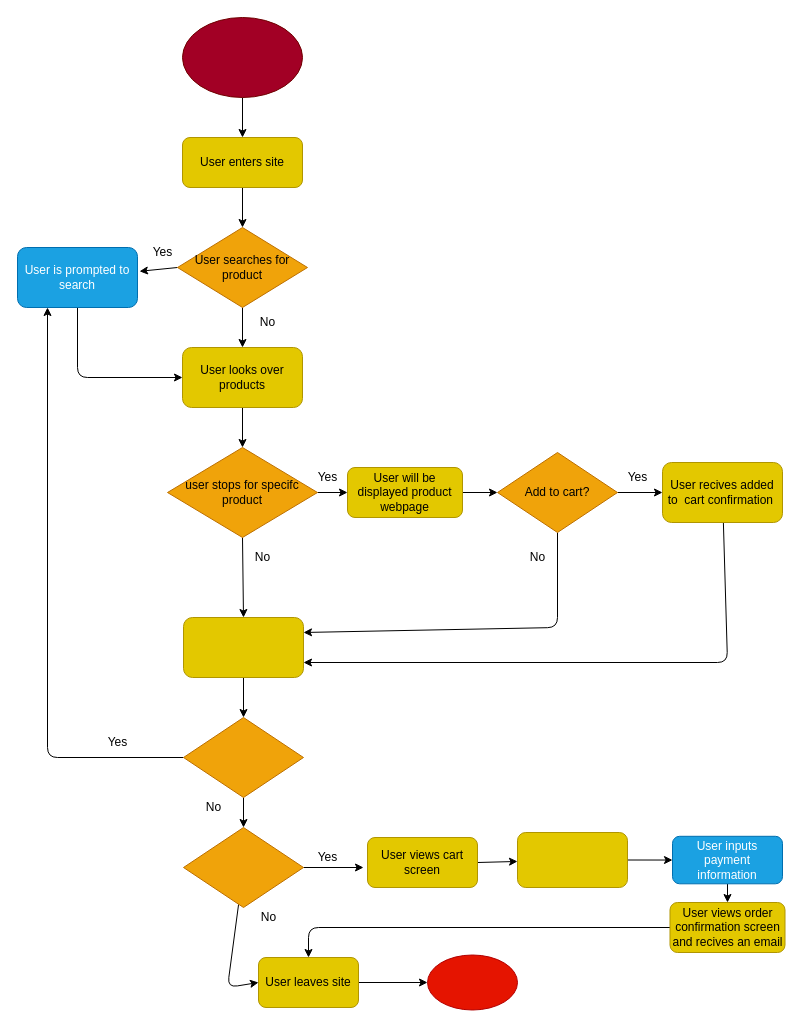
Some shapes in this 803 by 1028 pixel diagram are drawn without their labels. Here are the shapes that lost their labels. From the top down, the centre of each, then its label:
At (x=242, y=57): "Start".
At (x=243, y=647): "User continues shopping".
At (x=243, y=757): "Search for new Product?".
At (x=243, y=867): "Checkout?".
At (x=572, y=860): "User views payment screen".
At (x=472, y=982): "End".
